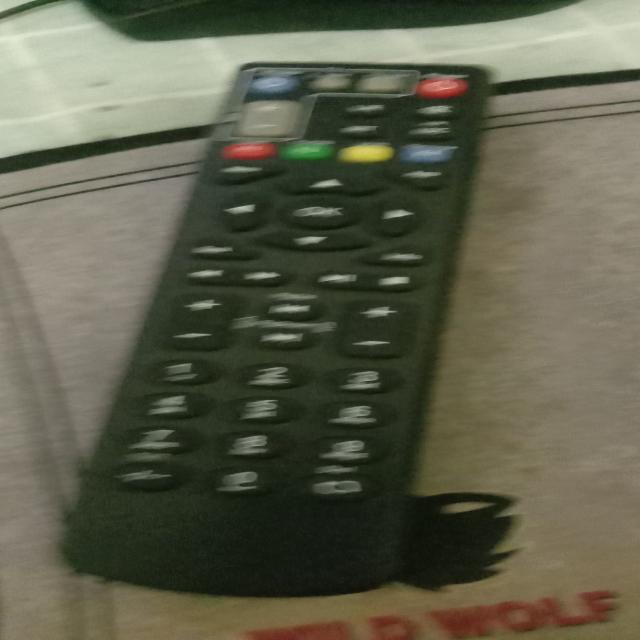remote: (39, 55, 511, 589)
